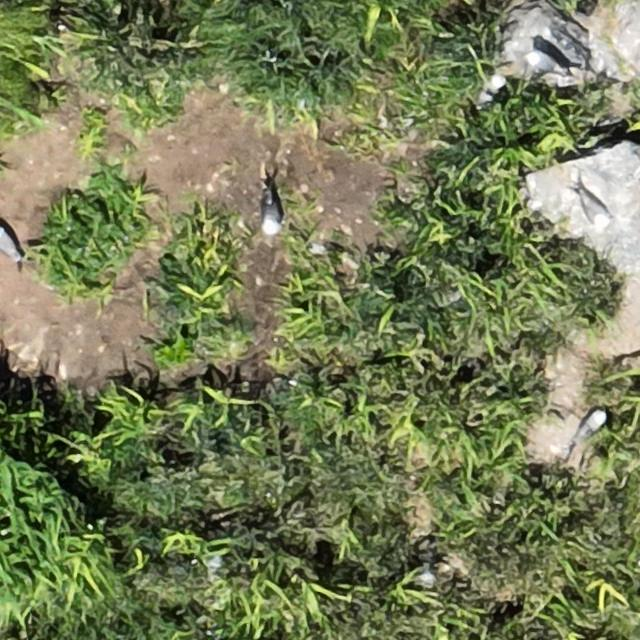umineko: (578, 184, 612, 226), (525, 49, 566, 76), (263, 192, 281, 233), (0, 227, 21, 260), (579, 409, 605, 435)
